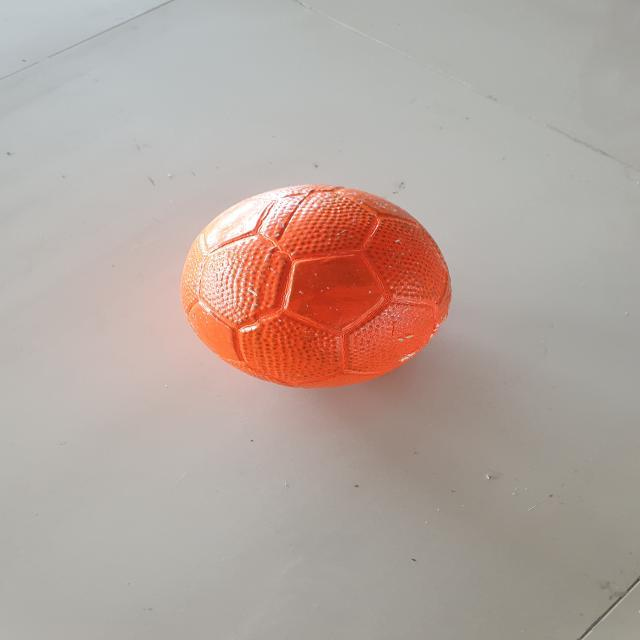bola: (176, 180, 460, 393)
